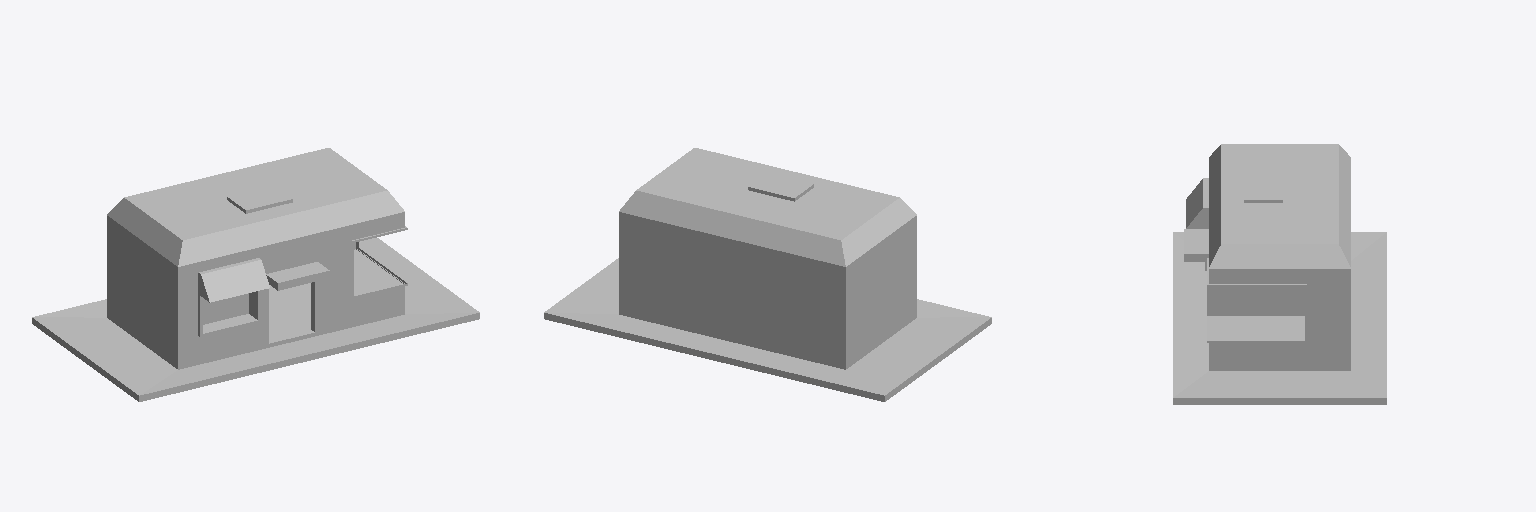
3 views of the same model, side by side, from view 1: azimuth 30°, elevation 25°; view 2: azimuth 150°, elevation 25°; view 3: azimuth 270°, elevation 25° (orthographic).
Visible parts, largest first — view 1: store.003_Cube.009; view 2: store.003_Cube.009; view 3: store.003_Cube.009.
Boxes of the visible parts, x1=… form: store.003_Cube.009: x1=32, y1=148, x2=479, y2=401; store.003_Cube.009: x1=544, y1=148, x2=991, y2=401; store.003_Cube.009: x1=1173, y1=144, x2=1386, y2=404.
Bounding box in the file's own units: 6 × 2.2 × 3.27.